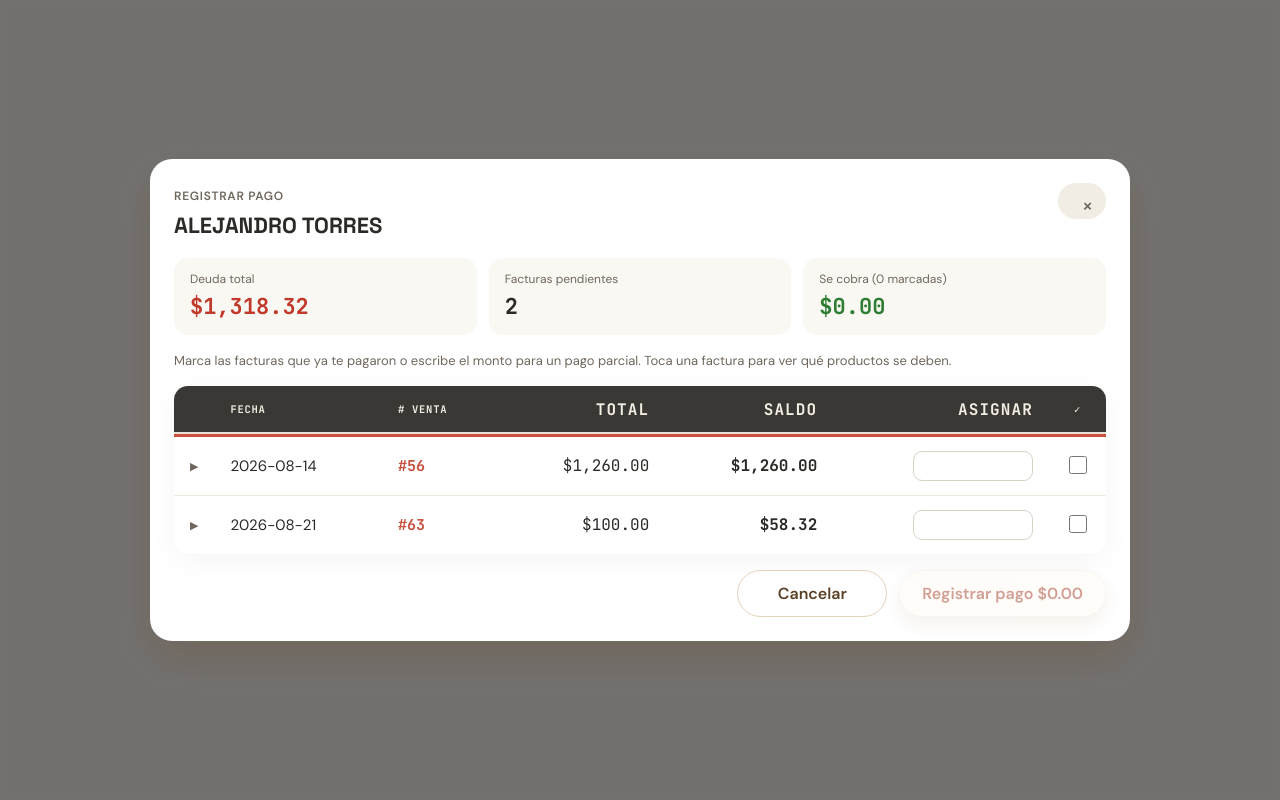
Scenario: ModalRegistrarPago — productos de la deuda › 🔴 un fallo al cargar productos se ve, no se confunde con factura vacía
What coordinates should you click on to do the following:
click the text "#56"
I would click on:
 (640, 466)
Its box is [174,436,1106,496].
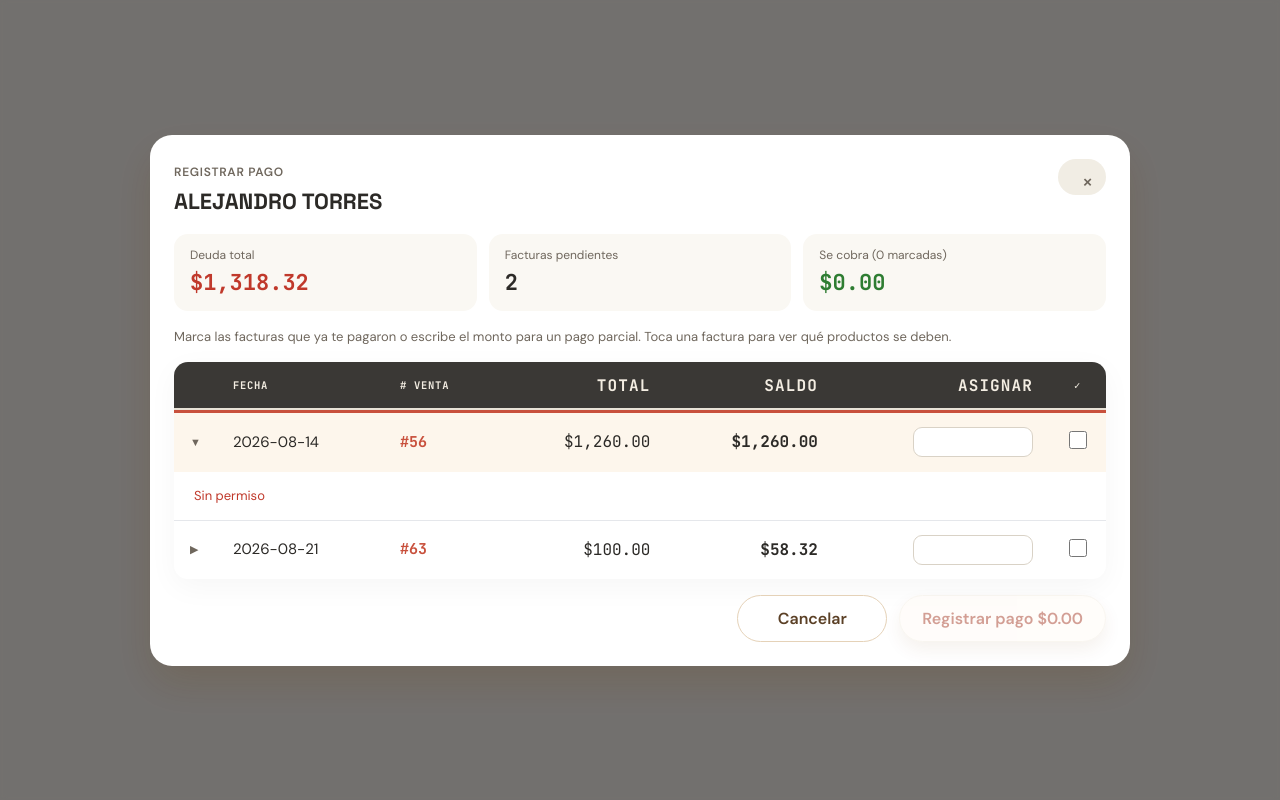
Expected: the text "Sin permiso" is shown, [194,487,265,504]
